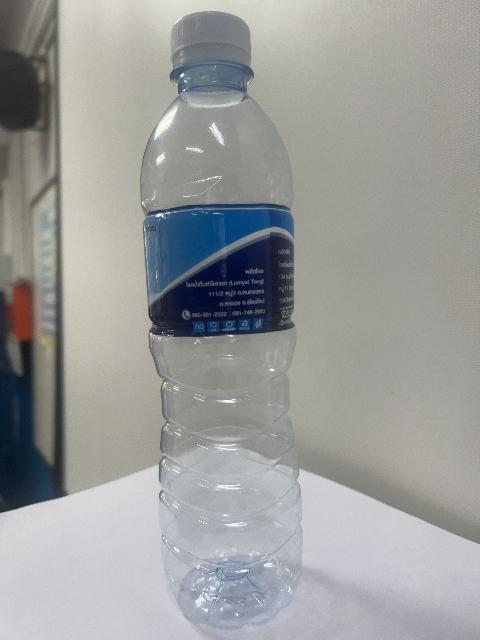bottle: (141, 12, 302, 628)
